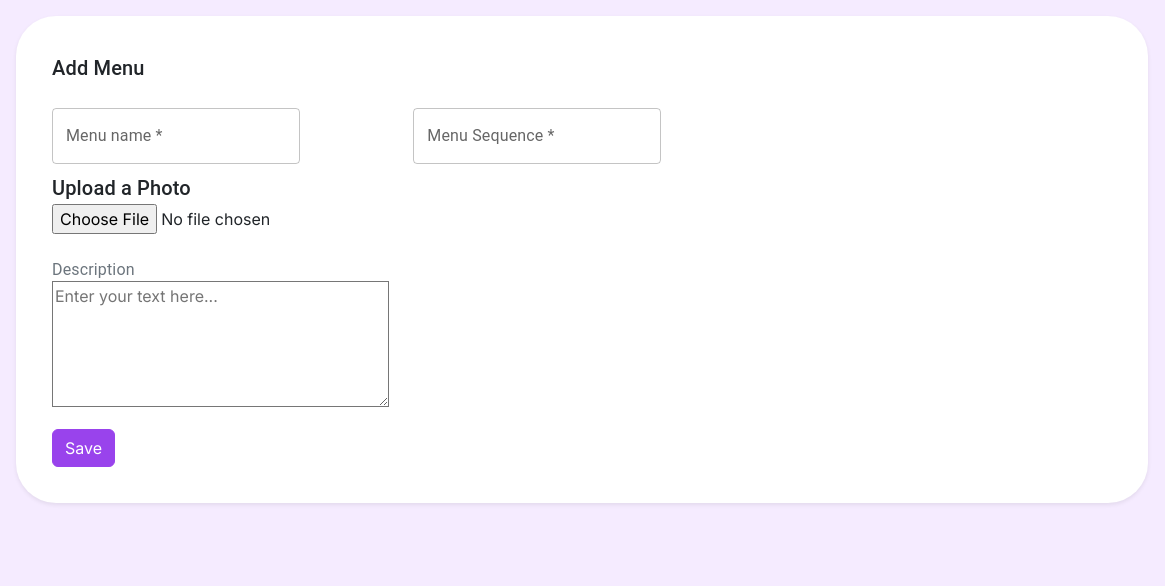
Test case: AddEditMenu Component › validates required fields (menu_name and priority)
Click the button with test id "save_btn".
click(84, 448)  # box [52,429,115,467]
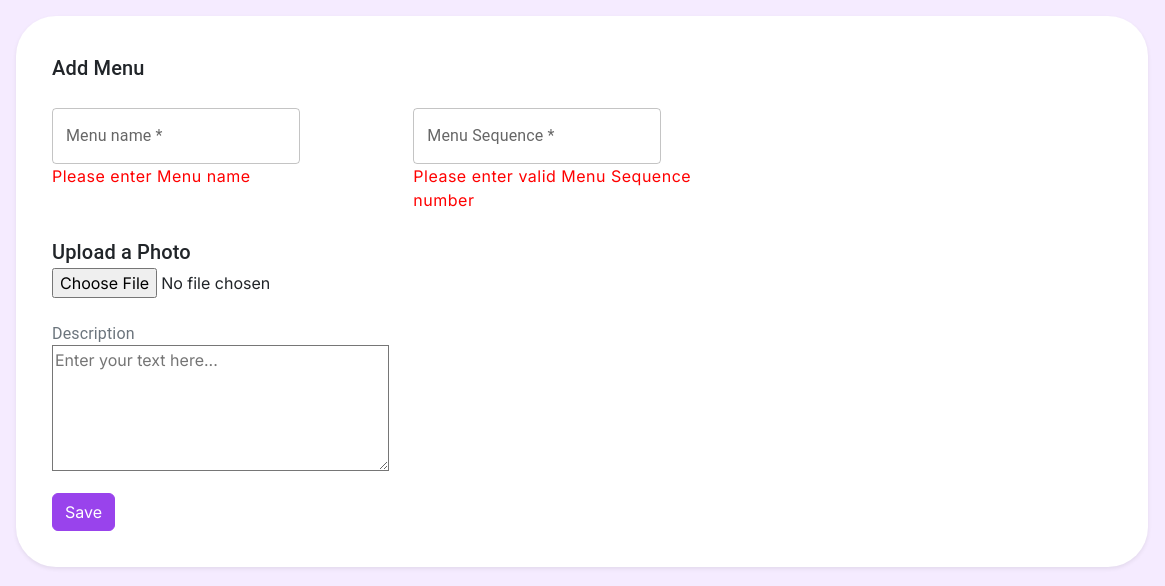
Expected: the text "Please enter Menu name" is shown, [52,166,250,186]
Expected: the text "Please enter valid Menu Sequence number" is shown, [413,166,691,210]
